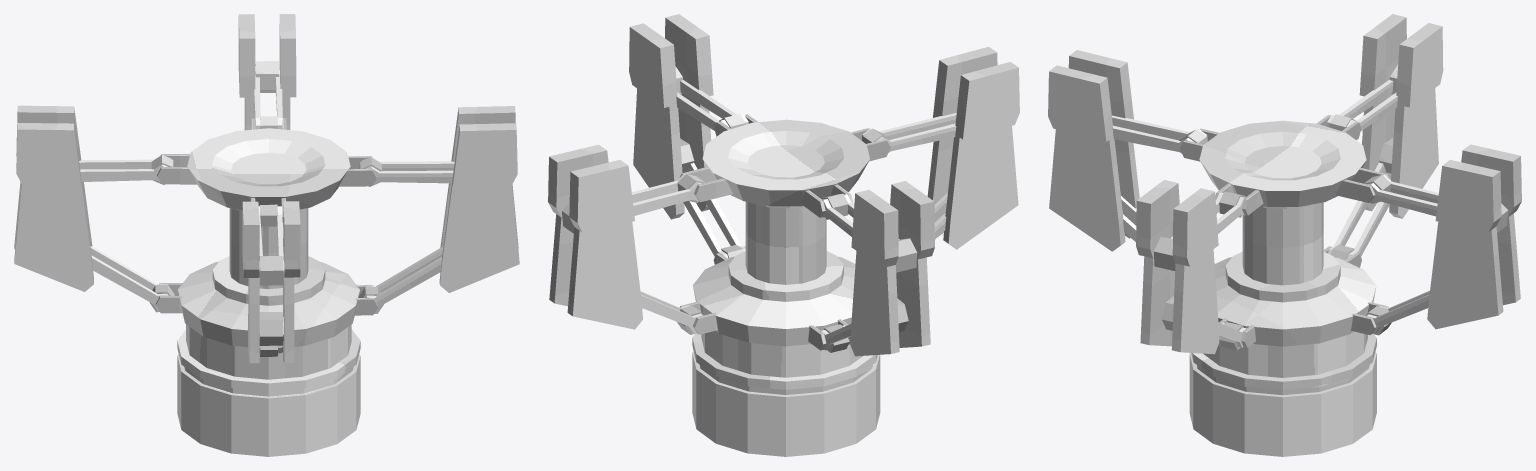
File: shield_generator_top.obj
3 renders of one model, left to right at view 1: azimuth 30°, elevation 25°; view 2: azimuth 150°, elevation 25°; view 3: azimuth 270°, elevation 25°, orthographic. The views are drawn at different scales.
Visible parts, largest first — view 1: Shield_generatorgroup30_Shield_generatorgroup29_Shield_generator; view 2: Shield_generatorgroup30_Shield_generatorgroup29_Shield_generator; view 3: Shield_generatorgroup30_Shield_generatorgroup29_Shield_generator.
Part boxes in pixels (x1,y1,x2,y2): Shield_generatorgroup30_Shield_generatorgroup29_Shield_generator: (14,14,519,456); Shield_generatorgroup30_Shield_generatorgroup29_Shield_generator: (548,14,1019,456); Shield_generatorgroup30_Shield_generatorgroup29_Shield_generator: (1048,14,1521,456).
Bounding box in the file's own units: 0.7448 × 0.5308 × 0.7491.
